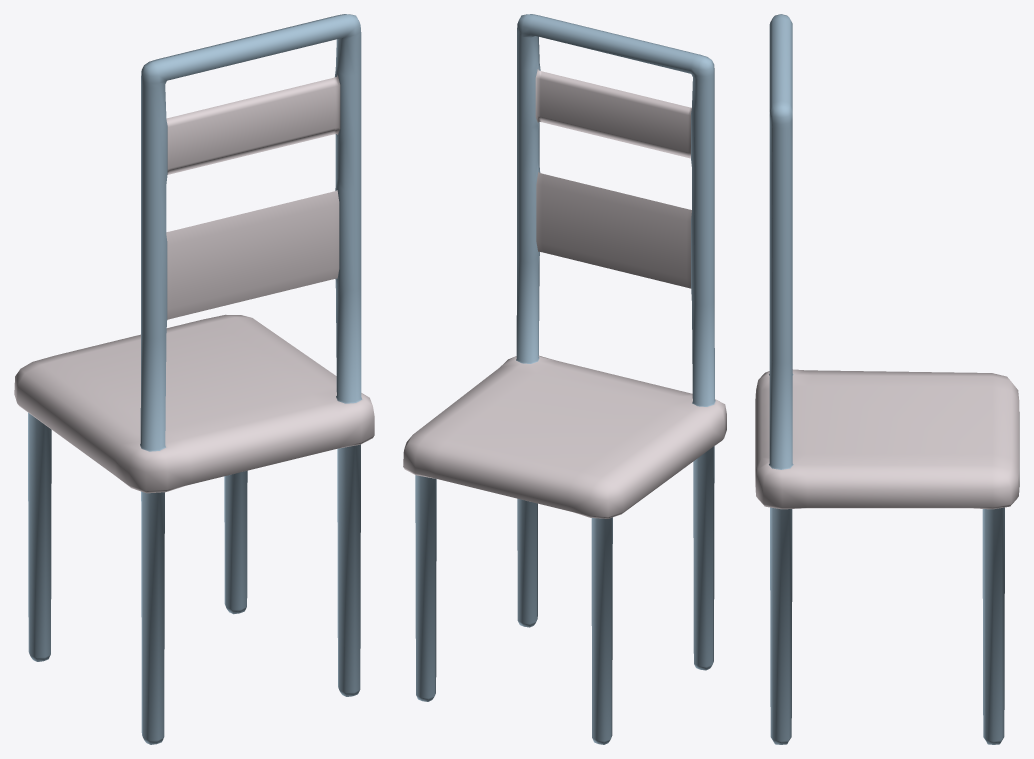
The model's file is SM_Chair.fbx.
The picture shows the model from 3 angles, left to right: view 1: azimuth 30°, elevation 25°; view 2: azimuth 150°, elevation 25°; view 3: azimuth 270°, elevation 25°; orthographic projection. The views are drawn at different scales.
Parts seen in each view (by area): view 1: Cube.001; view 2: Cube.001; view 3: Cube.001.
Part boxes in pixels (bbox=[...]): Cube.001: bbox=[14, 14, 374, 744]; Cube.001: bbox=[403, 14, 726, 744]; Cube.001: bbox=[755, 14, 1019, 744].
Bounding box in the file's own units: 39.76 × 106 × 39.76.
